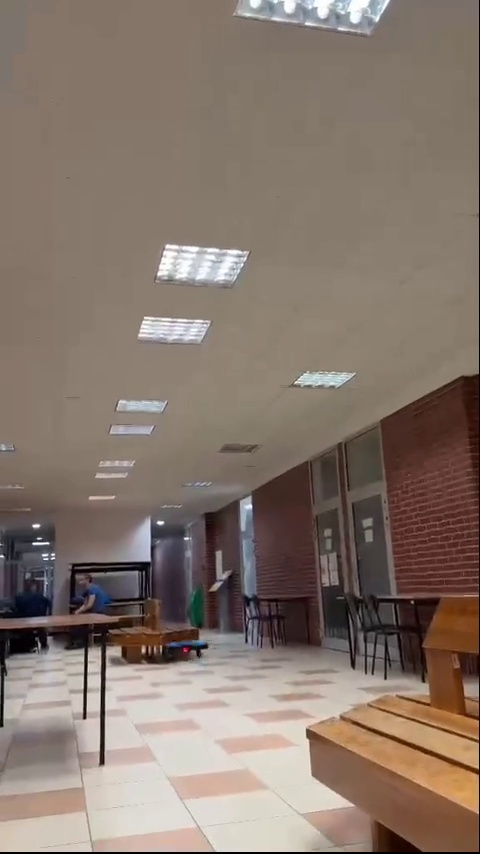drone: (166, 636, 212, 657)
no vest: (72, 568, 110, 614), (12, 575, 44, 618)
